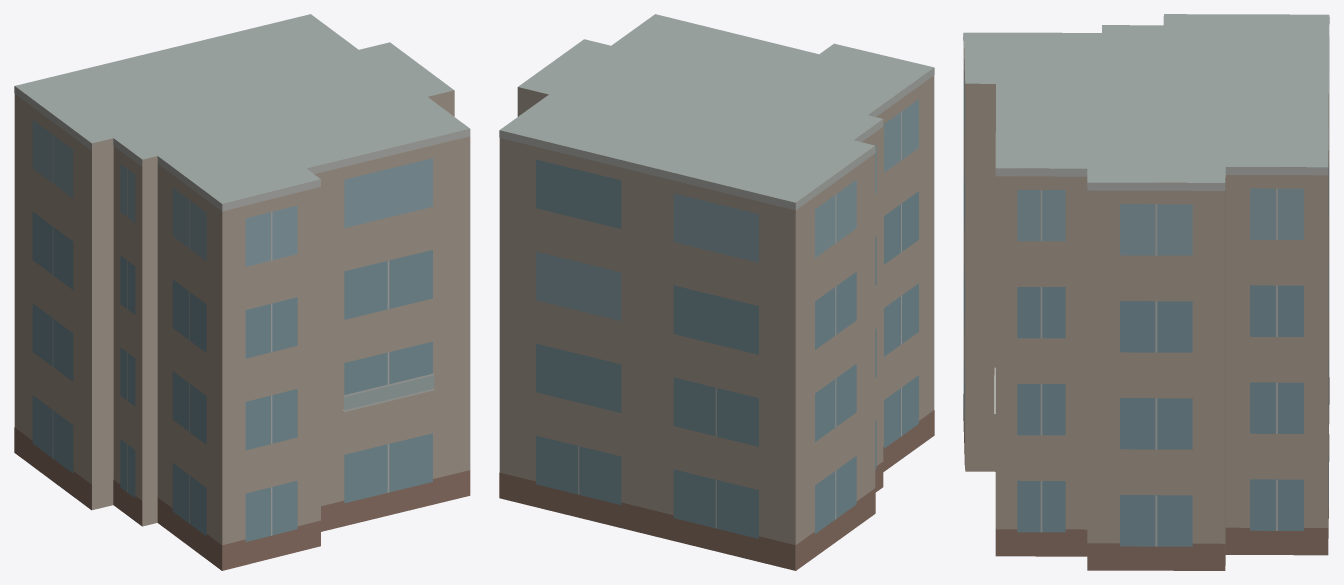
The model's file is survey-upis-32527822.glb.
The picture shows the model from 3 angles, left to right: view 1: azimuth 30°, elevation 25°; view 2: azimuth 150°, elevation 25°; view 3: azimuth 270°, elevation 25°; orthographic projection. The views are drawn at different scales.
Visible parts, largest first — view 1: survey-upis-32527822.tmp; view 2: survey-upis-32527822.tmp; view 3: survey-upis-32527822.tmp.
Boxes of the visible parts, left/top/right/bottom form: survey-upis-32527822.tmp: left=14, top=14, right=470, bottom=570; survey-upis-32527822.tmp: left=499, top=14, right=934, bottom=570; survey-upis-32527822.tmp: left=963, top=14, right=1329, bottom=570.
Bounding box in the file's own units: 11.03 × 11.8 × 10.09.
